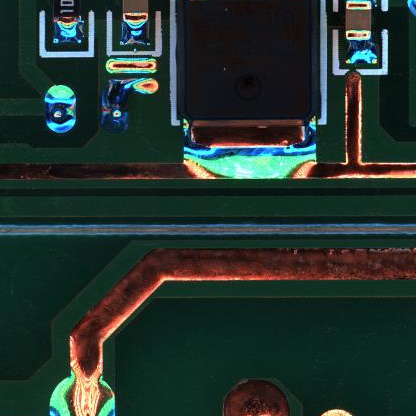spot: (43, 85, 77, 135)
